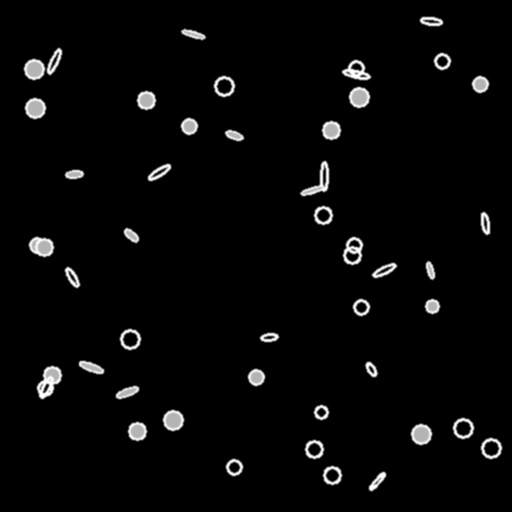pseudomonas: (45, 47, 63, 75), (371, 261, 397, 279), (147, 163, 171, 181), (78, 359, 104, 375), (368, 471, 386, 491), (64, 266, 80, 288), (38, 376, 54, 398), (342, 68, 370, 80), (115, 385, 139, 399), (181, 28, 205, 40), (300, 184, 324, 196), (123, 227, 139, 243), (364, 361, 378, 377), (225, 129, 243, 141), (480, 213, 490, 233), (321, 161, 327, 191), (425, 261, 435, 279), (420, 17, 442, 25), (261, 333, 277, 341), (66, 170, 82, 178)
synechocystis: (454, 419, 472, 437), (164, 411, 182, 429), (121, 330, 139, 348), (26, 99, 44, 117), (25, 60, 43, 78), (350, 88, 368, 106), (215, 77, 233, 95), (412, 425, 430, 443), (482, 439, 500, 457), (323, 122, 339, 138), (324, 467, 340, 483), (138, 92, 154, 108), (44, 367, 60, 383), (306, 441, 322, 457), (344, 247, 360, 263), (129, 423, 145, 439), (315, 207, 331, 223), (36, 239, 52, 255), (249, 370, 263, 384), (354, 300, 368, 314), (30, 238, 44, 252), (227, 460, 241, 474), (182, 119, 196, 133), (473, 77, 487, 91), (347, 238, 361, 252), (38, 381, 52, 395), (349, 61, 363, 75), (435, 54, 449, 68), (315, 406, 327, 418), (426, 300, 438, 312)
